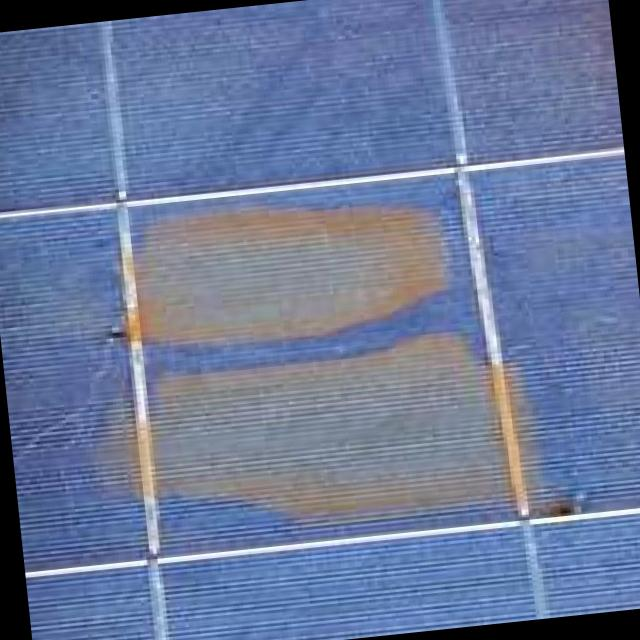faulty: (74, 324, 561, 574), (130, 182, 458, 362)
